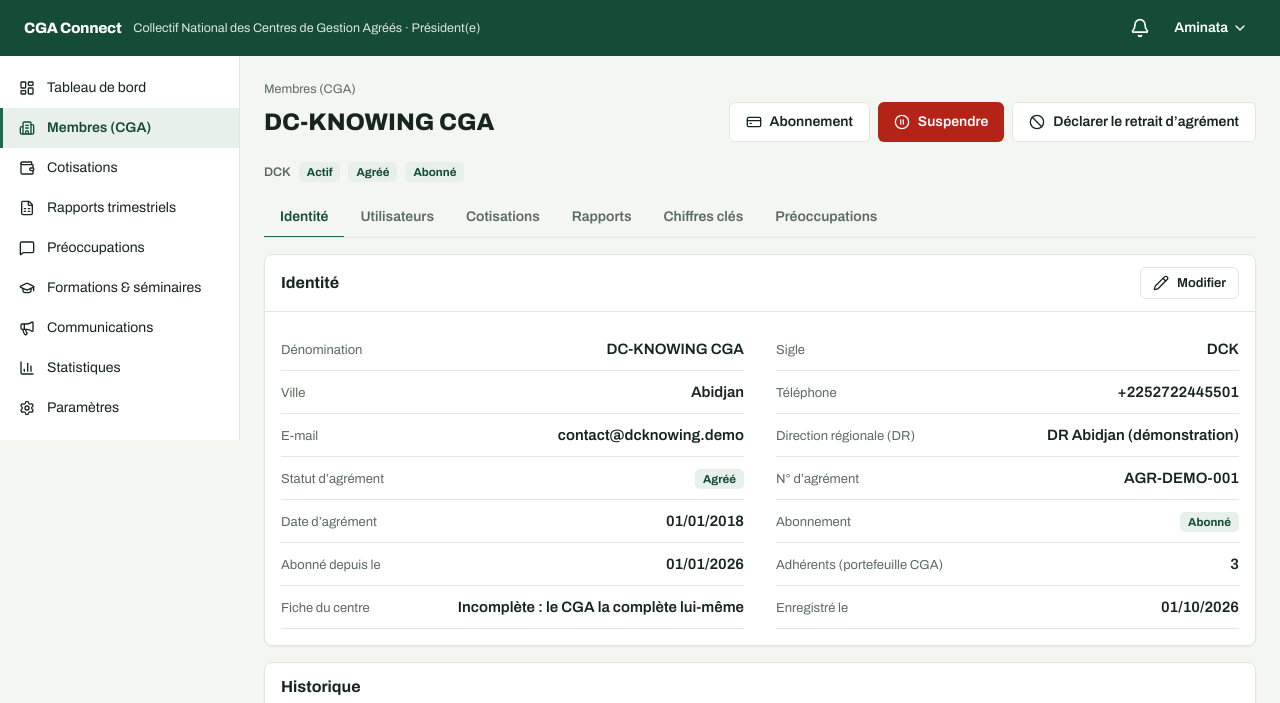
Test case: Modifier la fiche en place (03-APPFLOW §3.2) › RG-ORG-03 · un CGA agréé garde son n° d’agrément
This screenshot has width=1280, height=703.
Check: the heading "DC-KNOWING CGA" is shown, box [264,106,494,138]
Click the button "Modifier".
click(1190, 283)  # box [1140,267,1239,299]
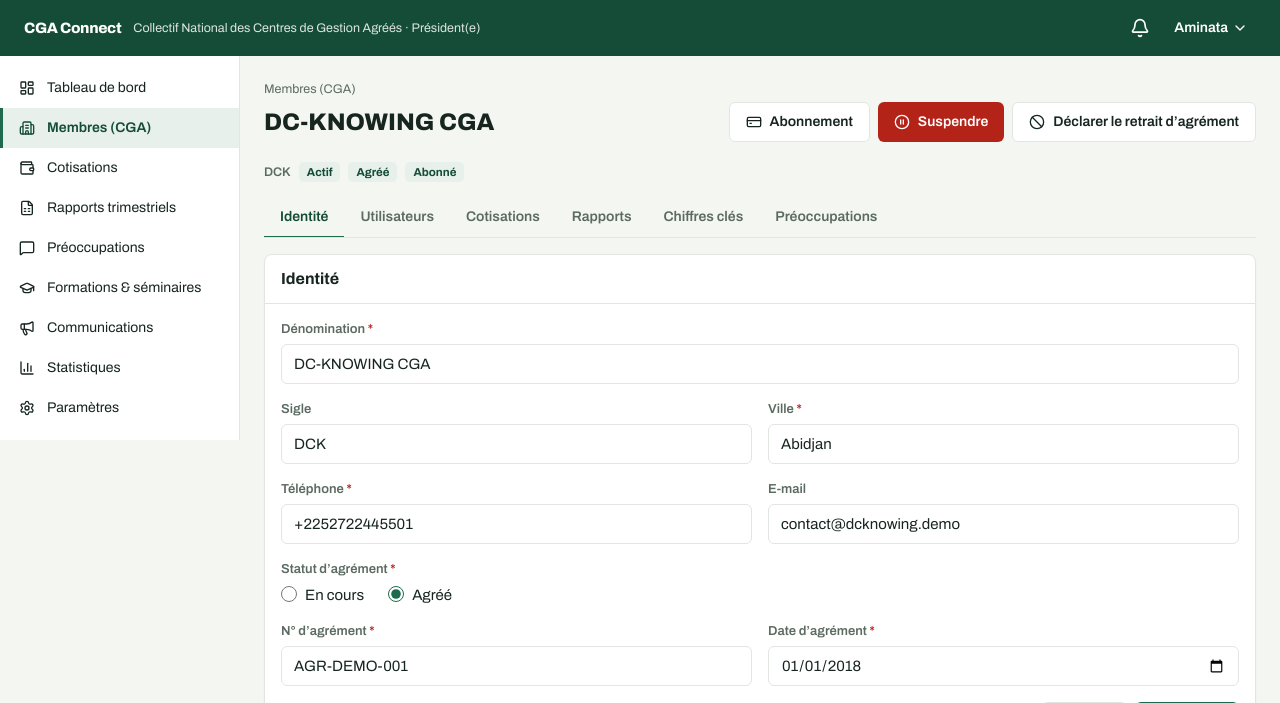
Clear the field labelled "N° d’agrément *" at (516, 666), box [281,646,752,686]
(page scrolled)
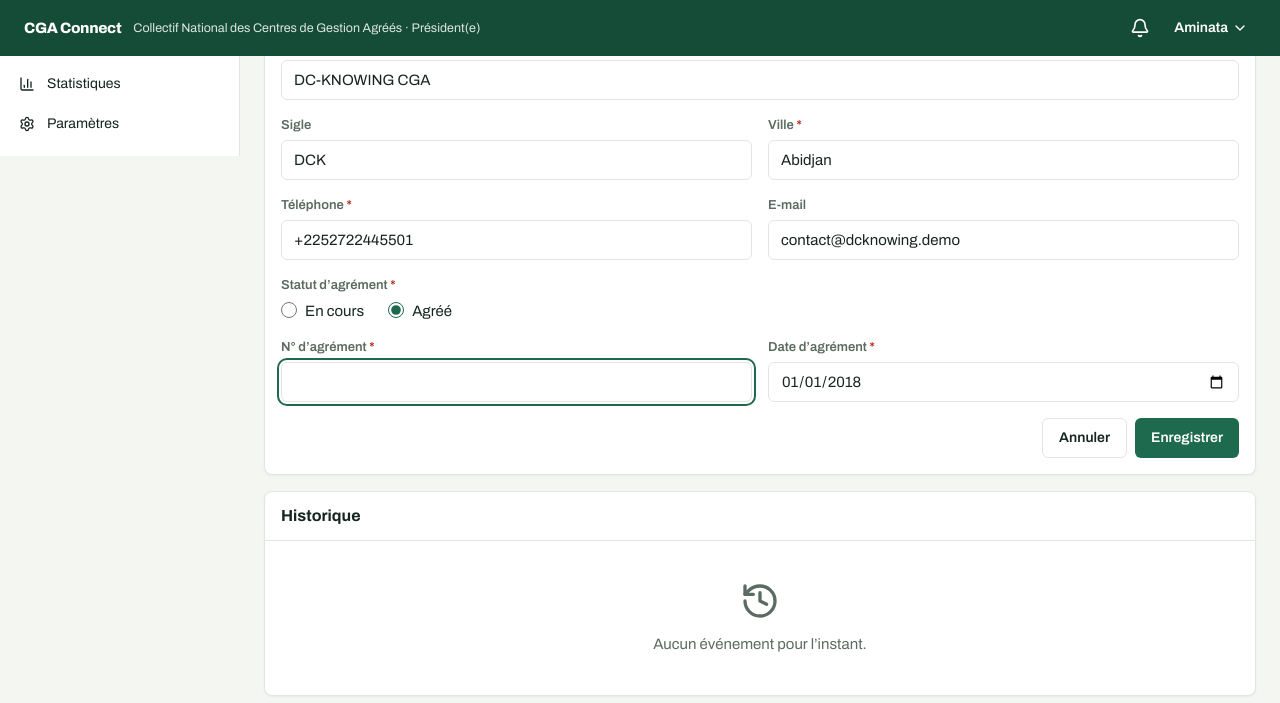
Click the button "Enregistrer".
click(1187, 438)  # box [1135,418,1239,458]
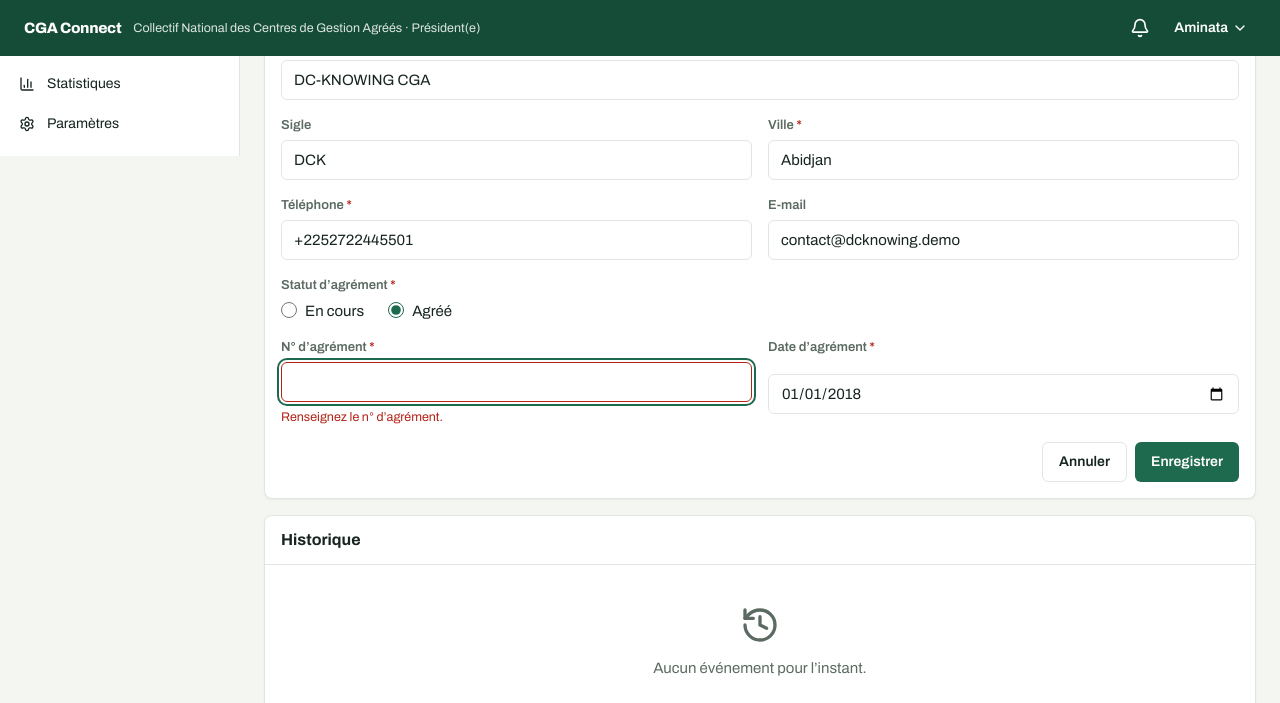
Check: the text "Renseignez le n° d’agrément." is shown, box [281,410,443,424]
